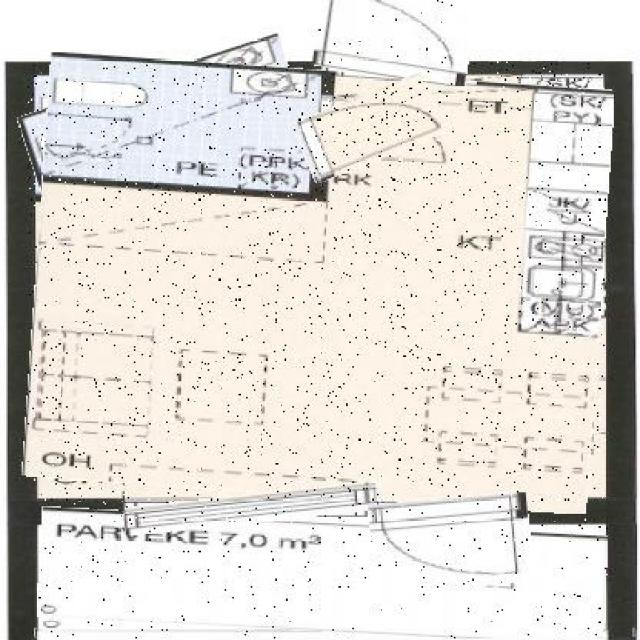door: (369, 495, 531, 591), (314, 0, 472, 80), (297, 84, 441, 170)
window: (123, 489, 377, 529)
zone: (29, 62, 608, 504), (38, 514, 608, 638), (23, 52, 309, 211)
